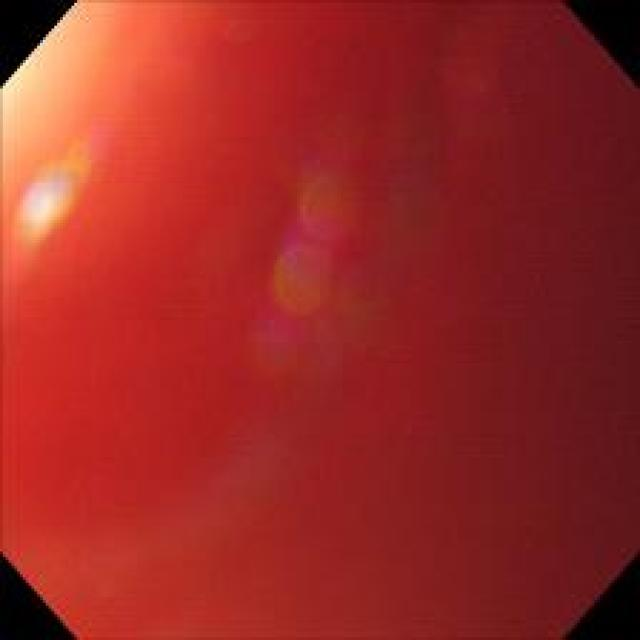color misalignment: (2, 5, 632, 629), (278, 181, 356, 308), (16, 142, 80, 238)
